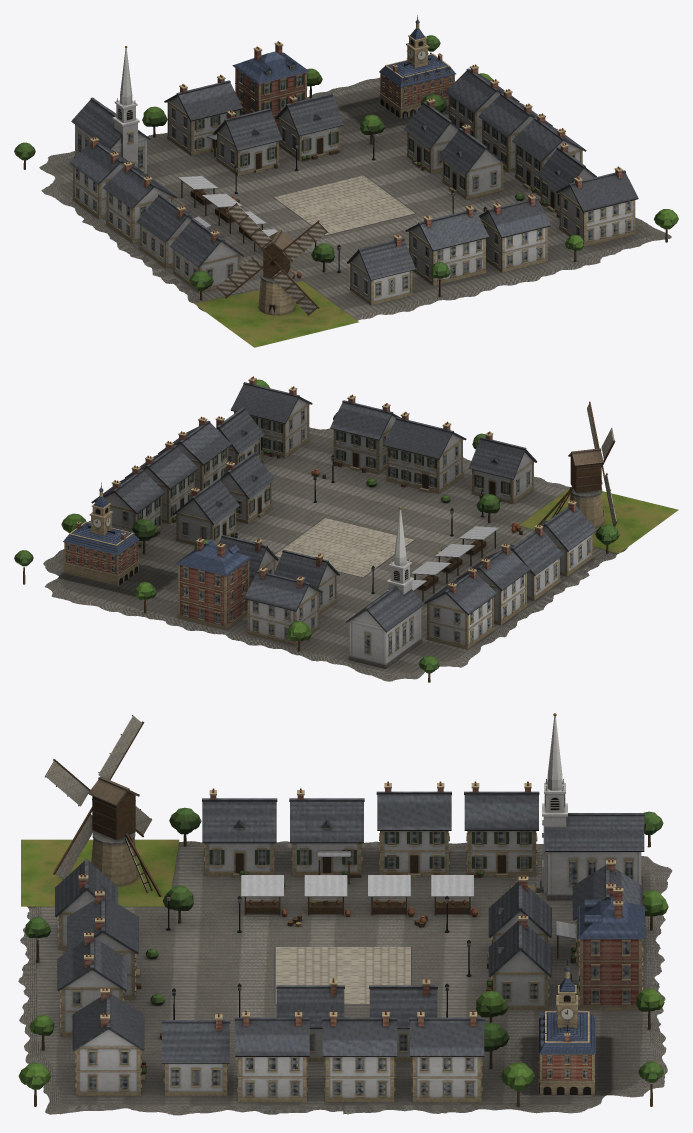
File: gunpowder-town-medium-b-colonies-03cdc26e.glb
3 renders of one model, top to bottom at view 1: azimuth 30°, elevation 25°; view 2: azimuth 150°, elevation 25°; view 3: azimuth 270°, elevation 25°, orthographic. The views are drawn at different scales.
Visible parts, largest first — view 1: LOD0; view 2: LOD0; view 3: LOD0.
Boxes of the visible parts, bbox=[...] form: LOD0: bbox=[14, 15, 678, 347]; LOD0: bbox=[14, 376, 678, 682]; LOD0: bbox=[18, 713, 672, 1115].
Size of what is drawn, in the model's own units: 6.03 by 1.8 by 6.09.
Materials: 3 (3 with a texture image).
